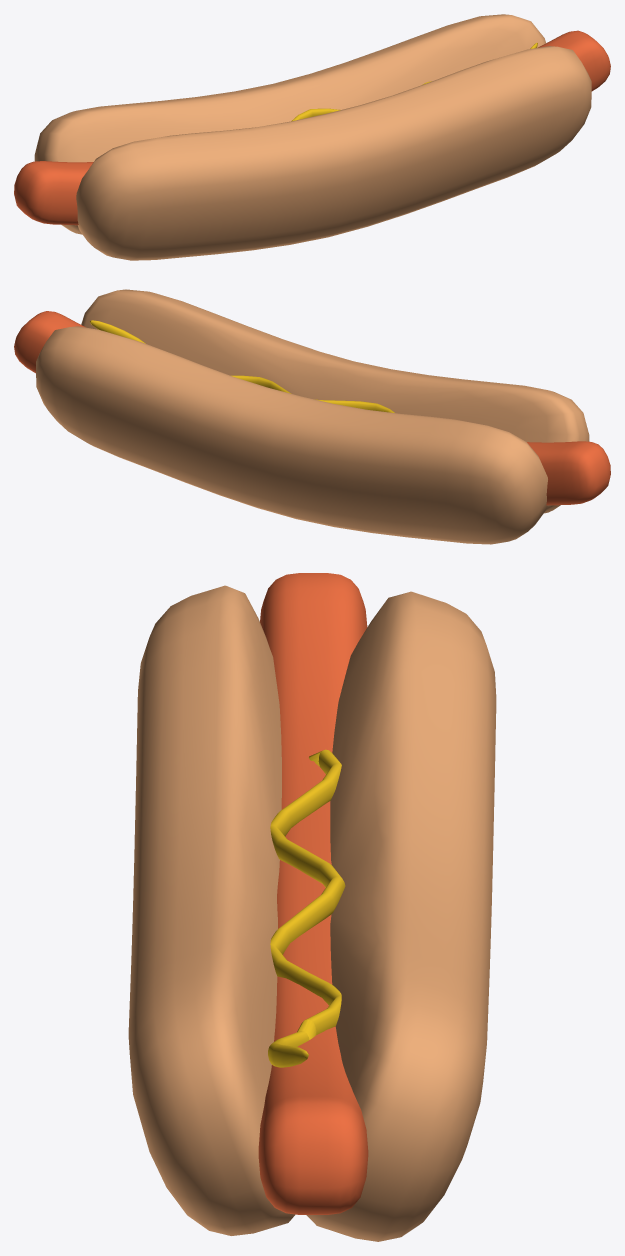
File: hotdog-transformed.glb
3 renders of one model, top to bottom at view 1: azimuth 30°, elevation 25°; view 2: azimuth 150°, elevation 25°; view 3: azimuth 270°, elevation 25°, orthographic. The views are drawn at different scales.
Parts seen in each view (by area): view 1: buns, sausage; view 2: buns, sausage, mustard; view 3: buns, sausage, mustard.
Part boxes in pixels (x1=…): buns: x1=34, y1=14, x2=591, y2=260; sausage: x1=14, y1=30, x2=610, y2=225; buns: x1=36, y1=289, x2=589, y2=544; sausage: x1=14, y1=311, x2=610, y2=505; mustard: x1=89, y1=320, x2=394, y2=412; buns: x1=128, y1=585, x2=496, y2=1241; sausage: x1=258, y1=573, x2=368, y2=1214; mustard: x1=268, y1=749, x2=345, y2=1067.
Bounding box in the file's own units: 297 × 70.28 × 81.25.
